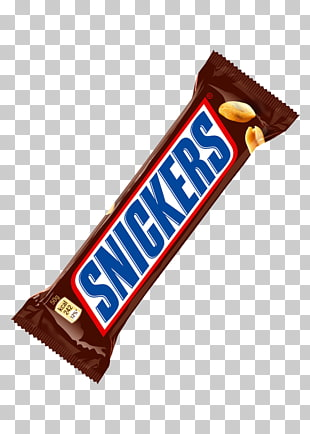snickers: (79, 111, 229, 320)
